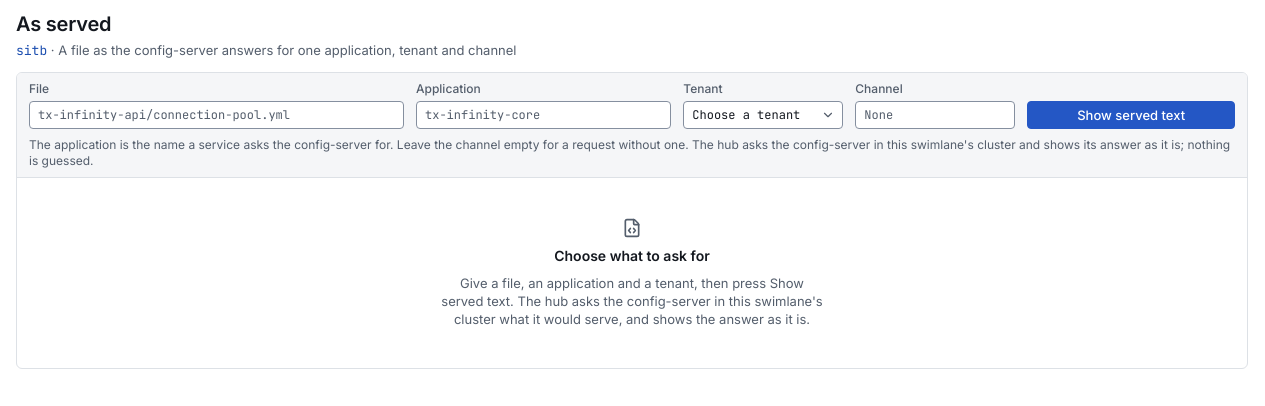
it: the pickers › send nothing while the fields are incomplete
Check: the text "Choose what to ask for" is shown, box [554,246,710,266]
Click the button "Show served text": (1131, 115) [1027,101,1235,129]
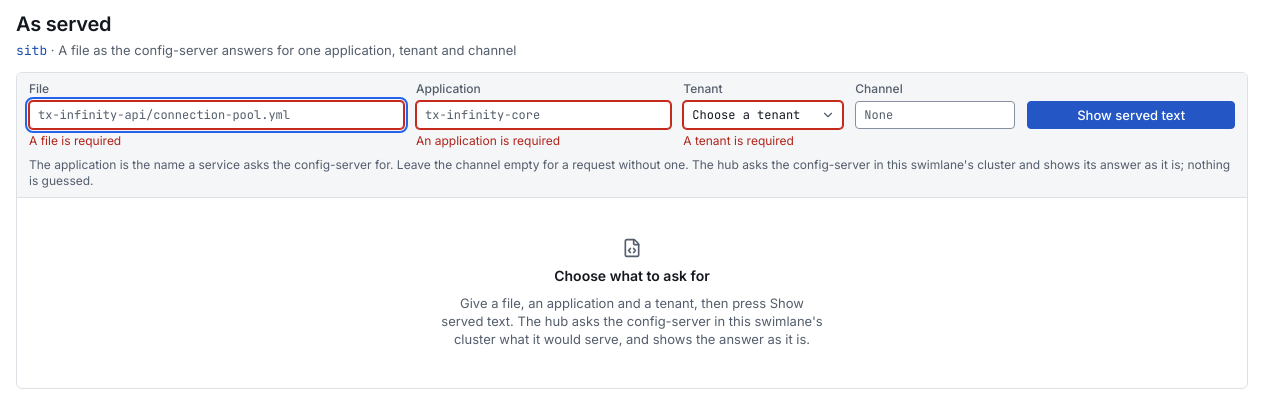
Check: the text "A file is required" is shown, box [29,133,121,148]
